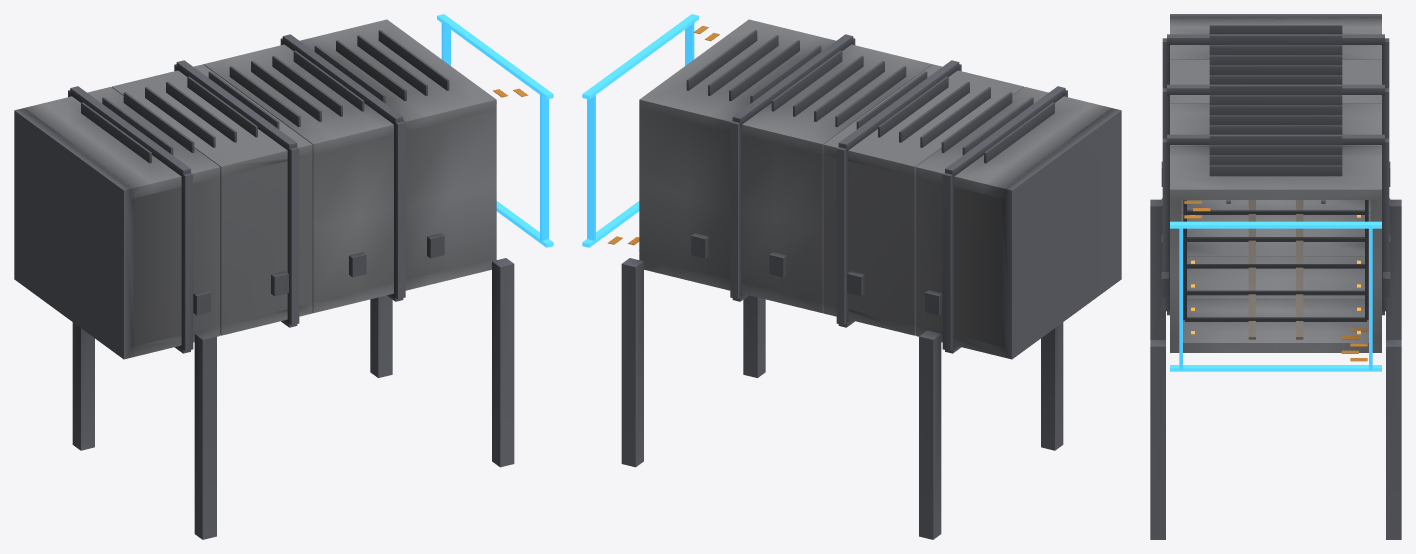
File: 02_launch_bay.glb
3 renders of one model, left to right at view 1: azimuth 30°, elevation 25°; view 2: azimuth 150°, elevation 25°; view 3: azimuth 270°, elevation 25°, orthographic. The views are drawn at different scales.
Visible parts, largest first — view 1: launch_bay_deck, launch_bay_hulldark, launch_bay_glowcyan_nocol; view 2: launch_bay_deck, launch_bay_hulldark, launch_bay_glowcyan_nocol; view 3: launch_bay_deck, launch_bay_hulldark, launch_bay_hulldark_nocol, launch_bay_glowcyan_nocol, launch_bay_pipe, launch_bay_hazard_nocol.
Boxes of the visible parts, <box> form: launch_bay_deck: <box>20,19,496,357</box>; launch_bay_hulldark: <box>14,30,514,539</box>; launch_bay_glowcyan_nocol: <box>437,14,553,247</box>; launch_bay_deck: <box>639,19,1115,357</box>; launch_bay_hulldark: <box>621,30,1121,539</box>; launch_bay_glowcyan_nocol: <box>582,14,698,247</box>; launch_bay_deck: <box>1170,16,1381,352</box>; launch_bay_hulldark: <box>1150,14,1401,539</box>; launch_bay_hulldark_nocol: <box>1183,200,1368,321</box>; launch_bay_glowcyan_nocol: <box>1170,221,1381,371</box>; launch_bay_pipe: <box>1248,200,1303,339</box>; launch_bay_hazard_nocol: <box>1184,200,1367,361</box>.
Size of the model in its own units: 60.7 by 49.9 by 31.8.
